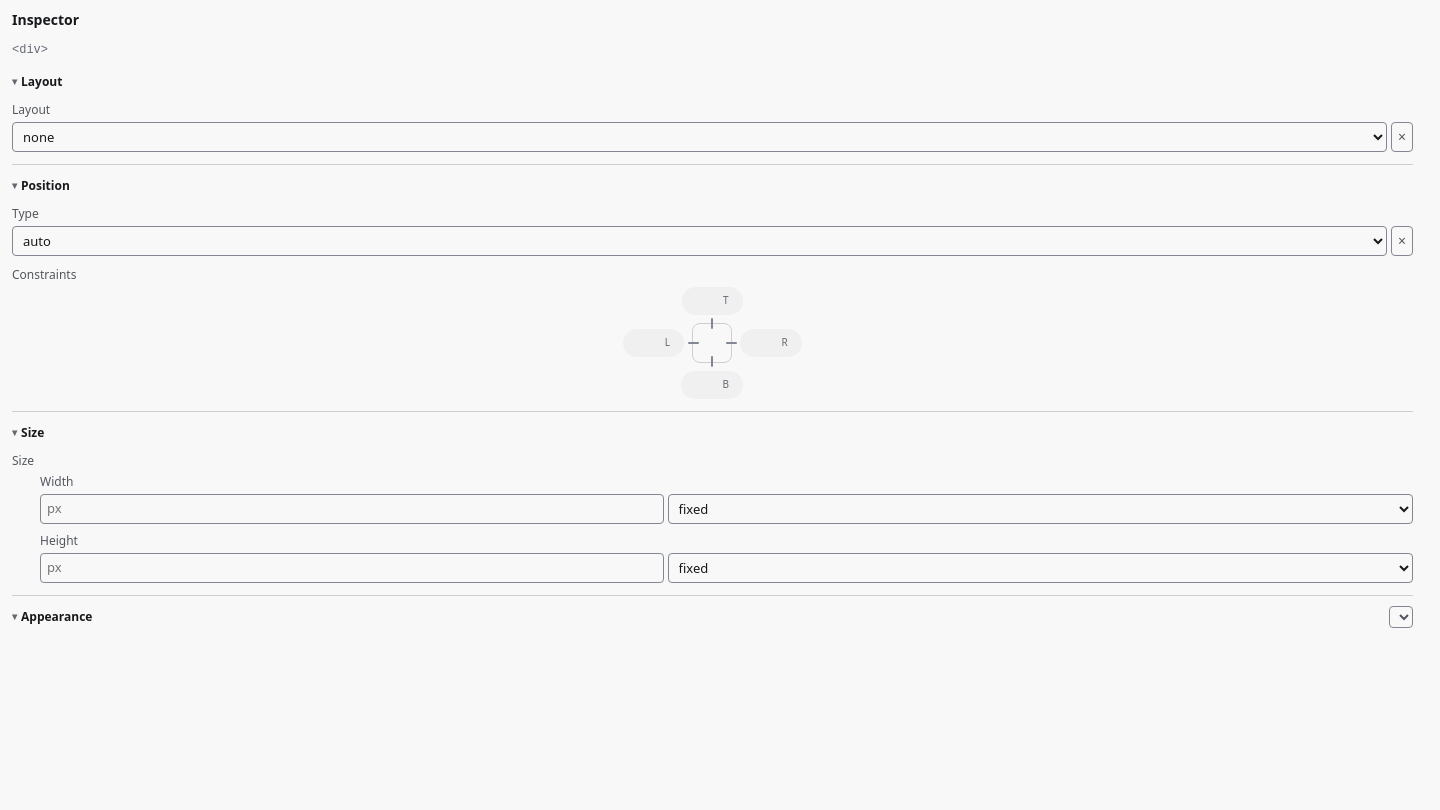
Inspector › collapses a section without losing what is in it
What coordinates should you click on to do the following:
click the button with class "group__toggle" showing "▾ Layout"
I would click on:
 (42, 81)
Its box is [12, 69, 1413, 95].
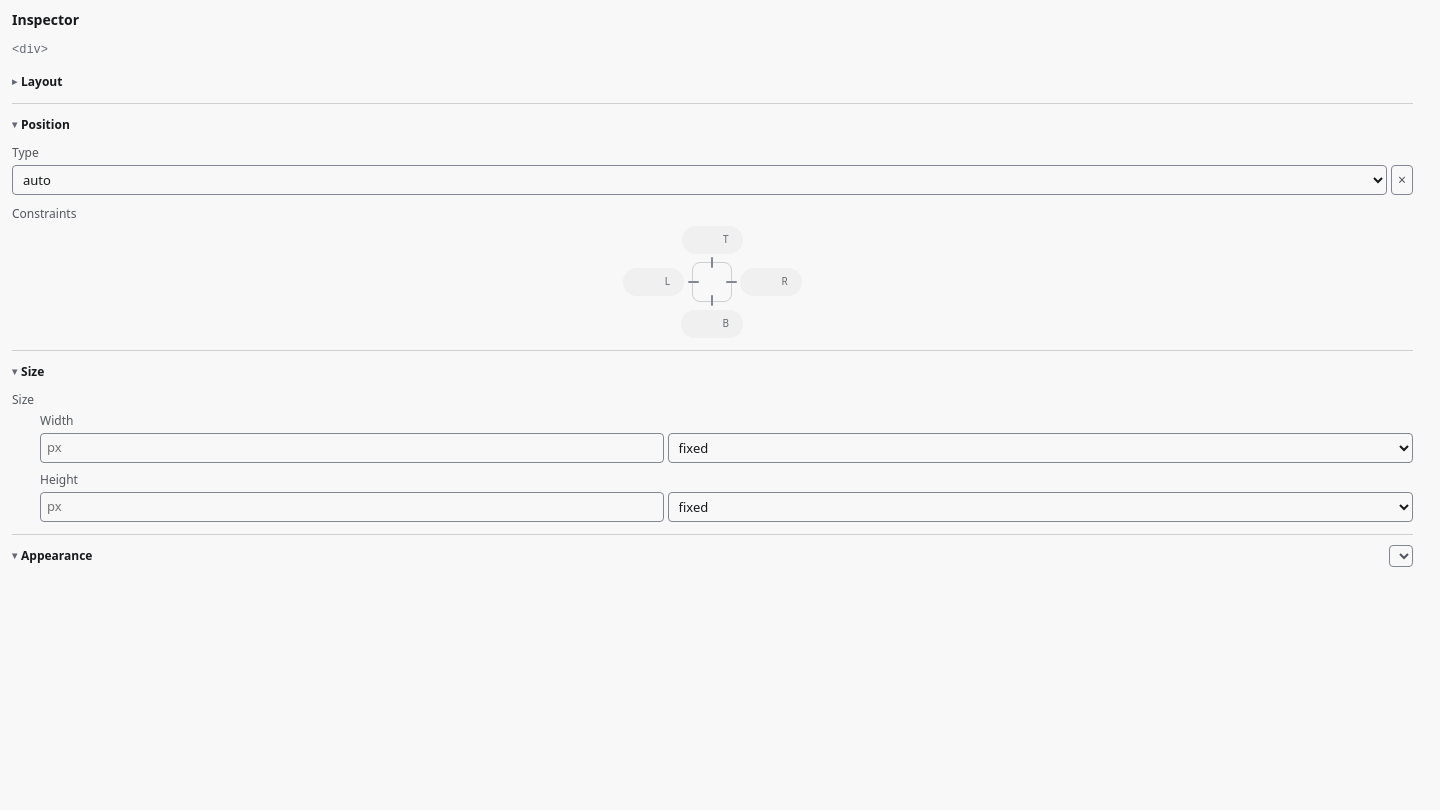
Now the button with class "group__toggle" is collapsed, box [12, 69, 1413, 95]
